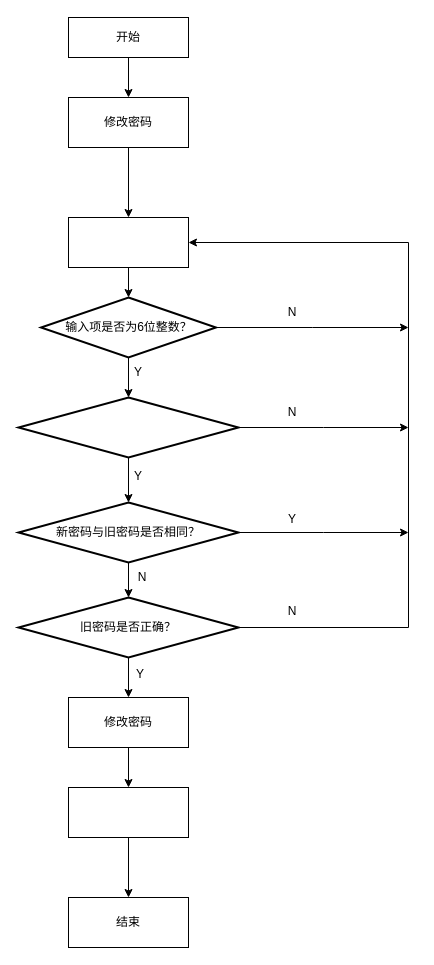
Image size: 434x965. Some labels were removed from this diagram. Here are the shapes that lost their labels. From the top down, the centre of each, then its label:
the point at 128,242: 填写旧密码 填写新密码 再次填写新密码
the point at 128,427: 两次输入新密码是否一致？
the point at 128,812: 修改密码成功
